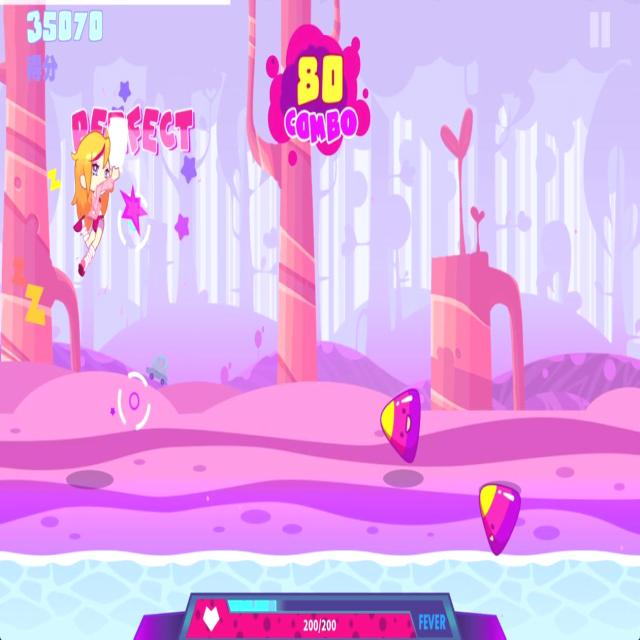jian: (376, 378, 424, 470), (475, 472, 524, 560)
